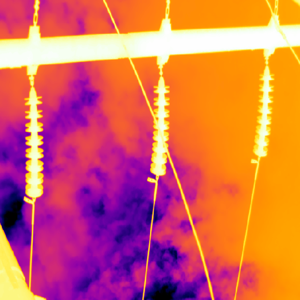insulator: (23, 85, 45, 198), (251, 65, 275, 158), (149, 75, 169, 176)
